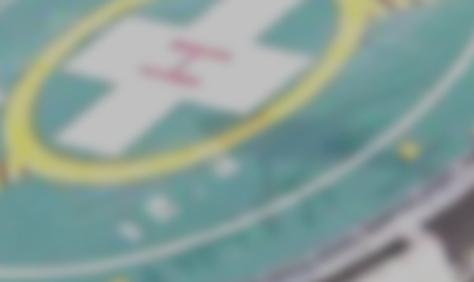Apron: (1, 1, 362, 187)
